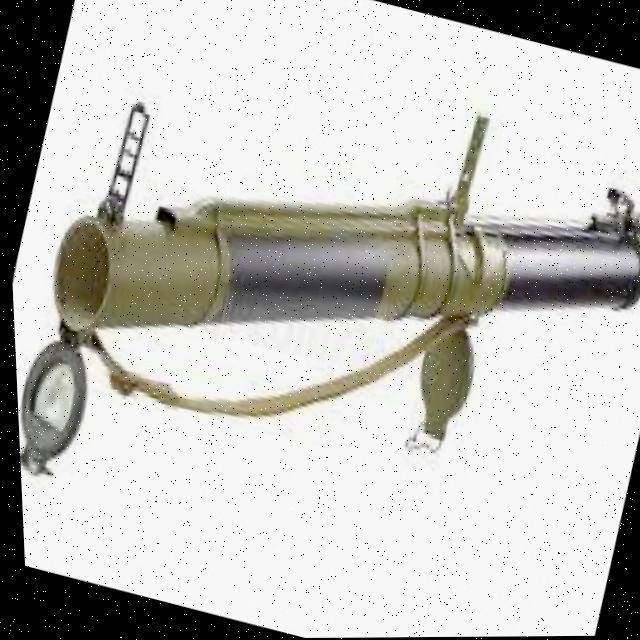rocket: (1, 29, 640, 617)
